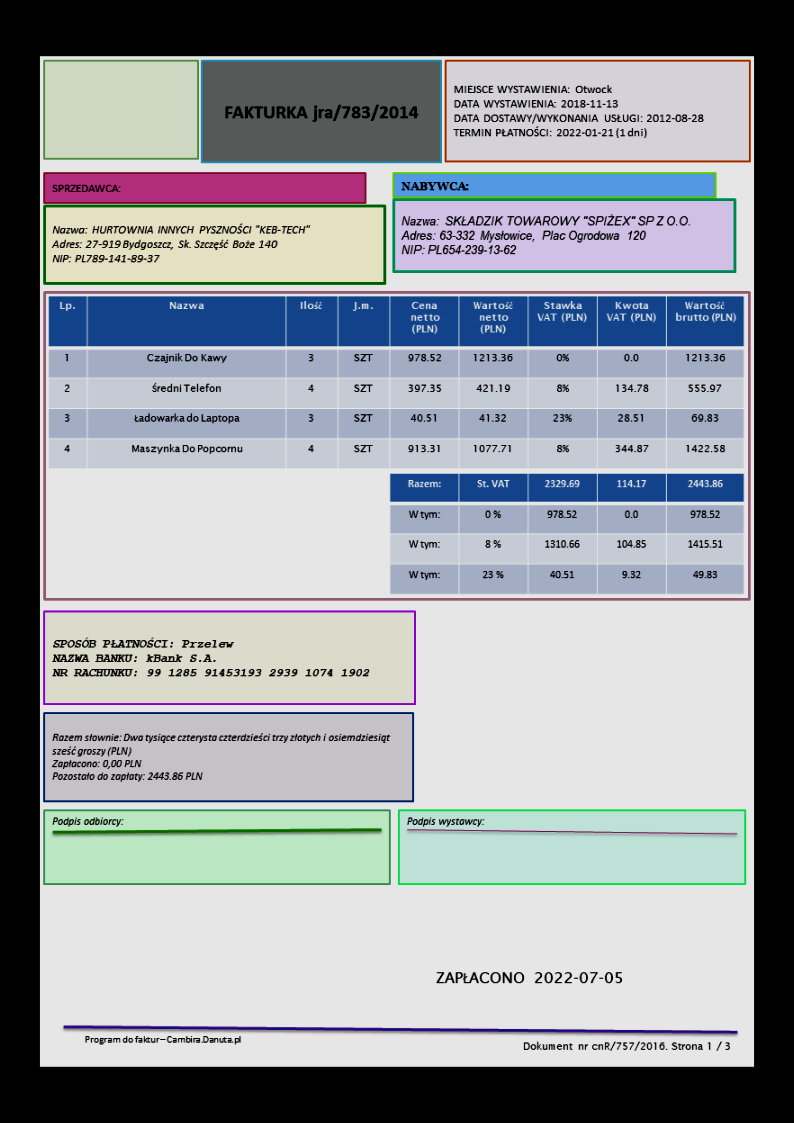Table: (47, 294, 744, 469), (389, 471, 744, 594)
TextBox: (50, 729, 392, 784), (451, 80, 708, 141), (51, 634, 371, 682), (398, 211, 691, 260), (50, 221, 312, 269), (221, 101, 421, 123), (433, 967, 623, 987), (521, 1038, 733, 1053), (82, 1031, 244, 1046), (403, 813, 485, 830), (48, 179, 122, 197), (51, 812, 124, 829), (398, 178, 471, 194)
